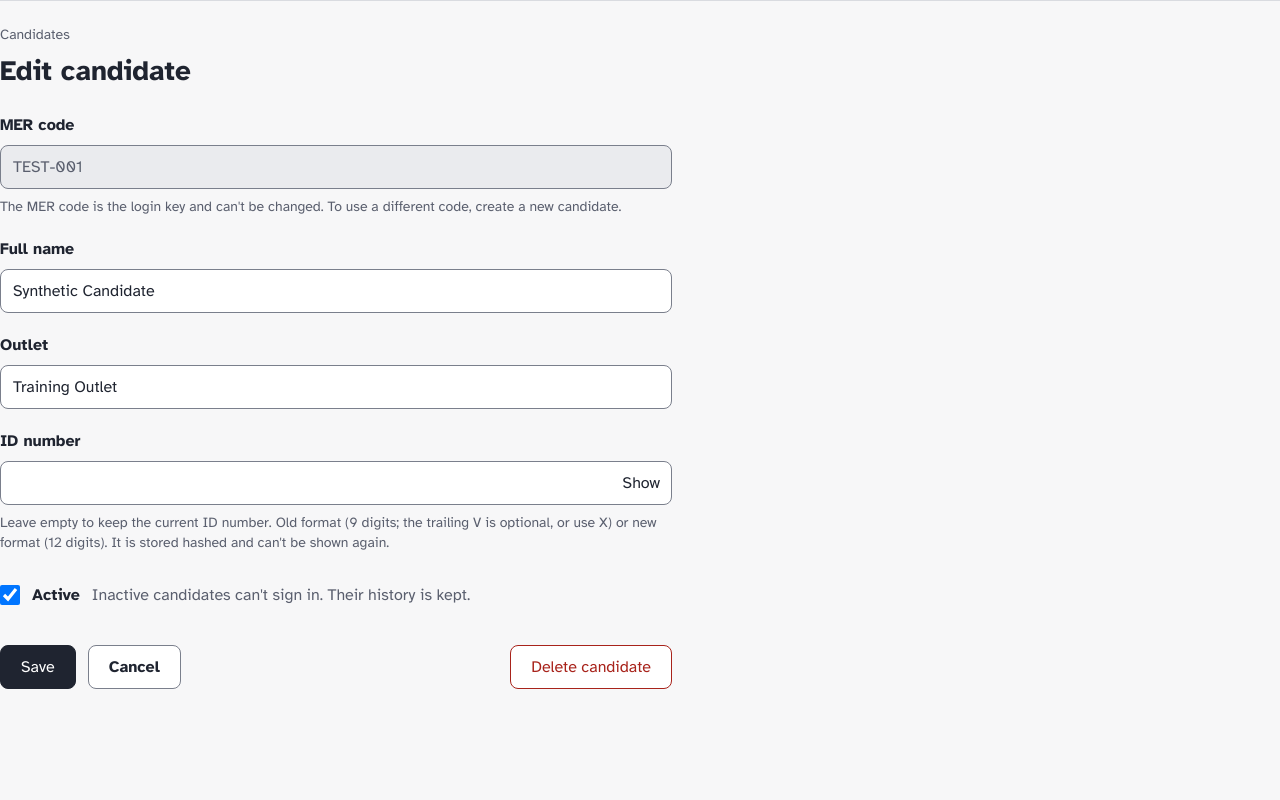
CandidateForm › shows delete failures as persistent toasts
Click the button "Delete candidate".
click(591, 667)  # box [510,645,672,689]
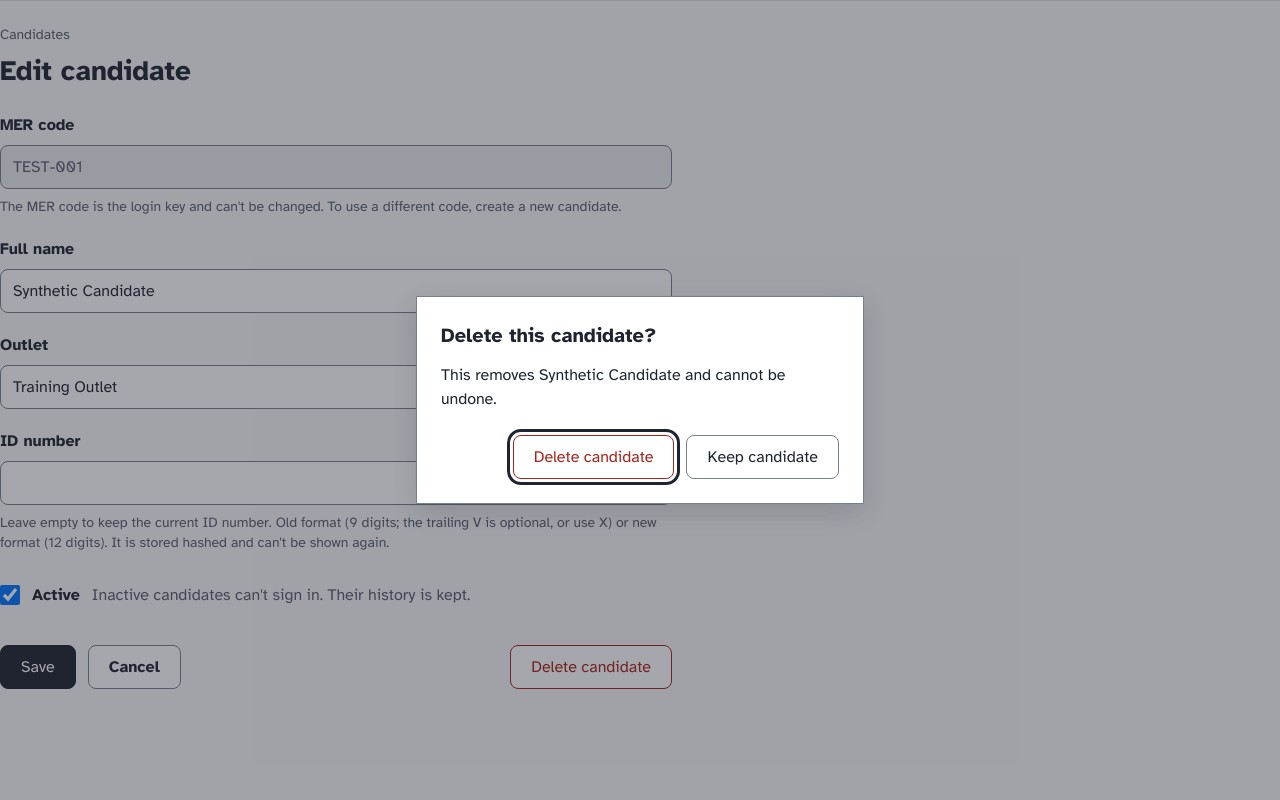
Click the button "Delete candidate".
click(594, 457)  # box [513,435,674,479]
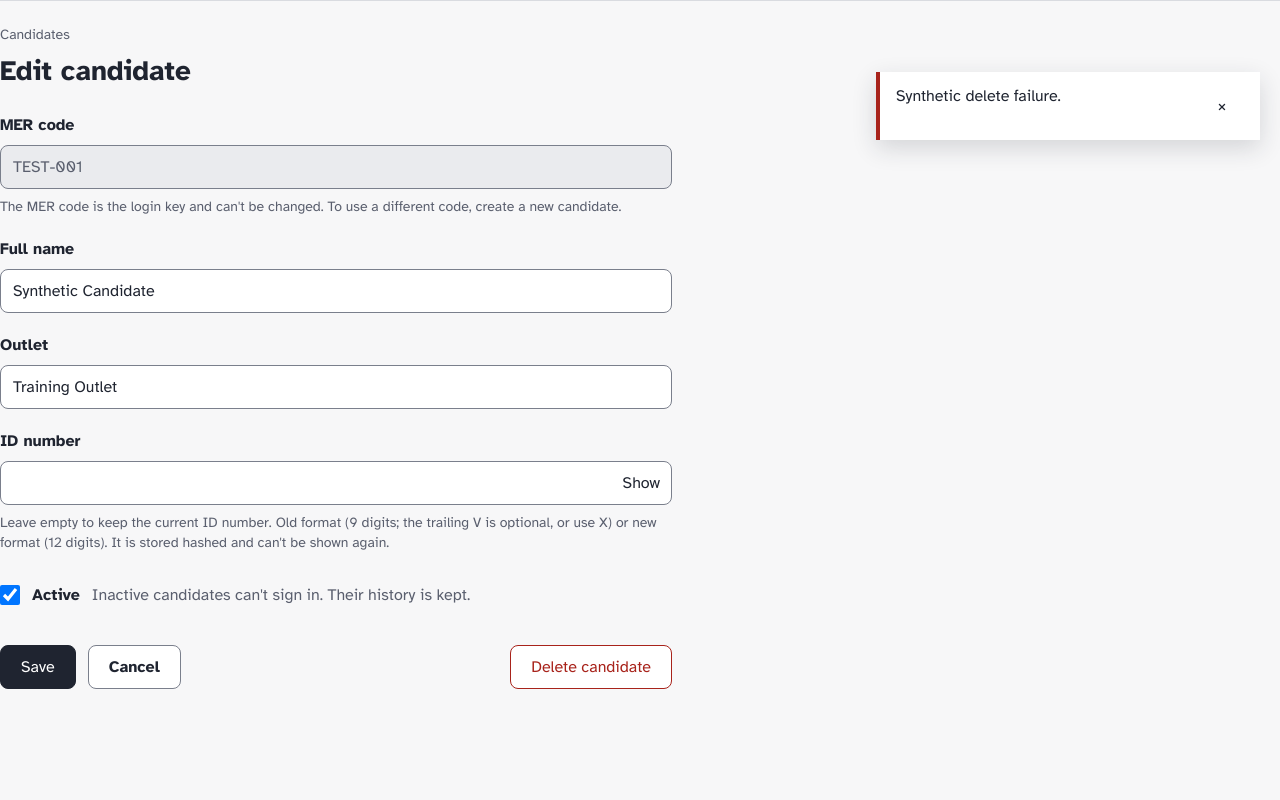
Result: the text "Synthetic delete failure." is shown at [896,84,1061,108]
